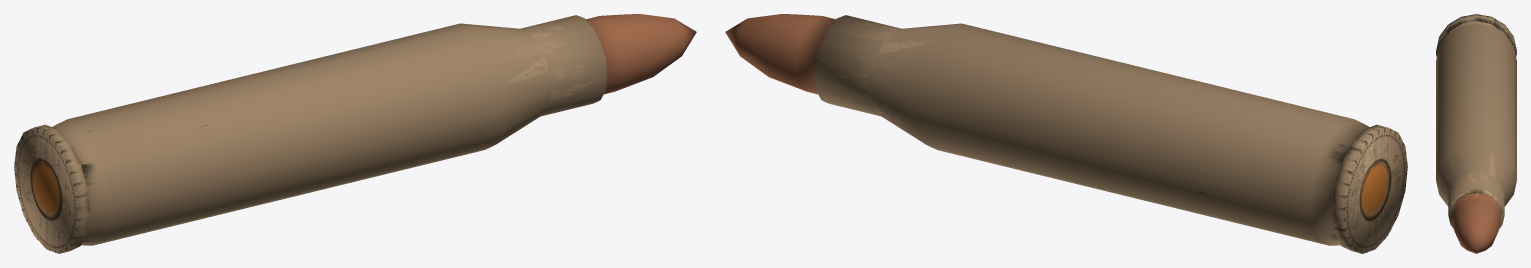
The model's file is 556x45 Cartridge.glb.
3 renders of one model, left to right at view 1: azimuth 30°, elevation 25°; view 2: azimuth 150°, elevation 25°; view 3: azimuth 270°, elevation 25°, orthographic. The views are drawn at different scales.
Visible parts, largest first — view 1: 5.56x45 Hi-P; view 2: 5.56x45 Hi-P; view 3: 5.56x45 Hi-P.
Boxes of the visible parts, <box> form: 5.56x45 Hi-P: <box>14,14,696,253</box>; 5.56x45 Hi-P: <box>725,14,1407,253</box>; 5.56x45 Hi-P: <box>1436,14,1516,253</box>.
Bounding box in the file's own units: 0.058 × 0.01 × 0.01.
1 material, 1 textured.
